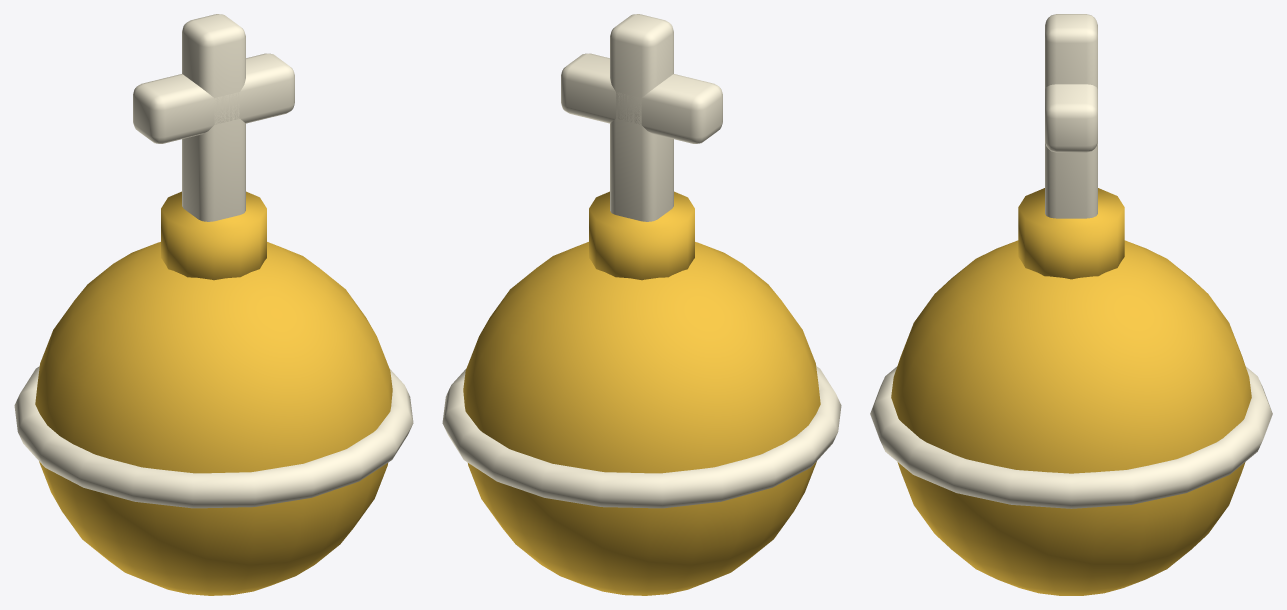
Rendered from holy-grenade.glb.
The picture shows the model from 3 angles, left to right: view 1: azimuth 30°, elevation 25°; view 2: azimuth 150°, elevation 25°; view 3: azimuth 270°, elevation 25°; orthographic projection.
Visible parts, largest first — view 1: HolyGrenade; view 2: HolyGrenade; view 3: HolyGrenade.
Boxes of the visible parts, bbox=[...] form: HolyGrenade: bbox=[14, 14, 413, 595]; HolyGrenade: bbox=[442, 14, 841, 595]; HolyGrenade: bbox=[870, 14, 1272, 595].
Size of the model in its own units: 0.53 by 0.81 by 0.53.
